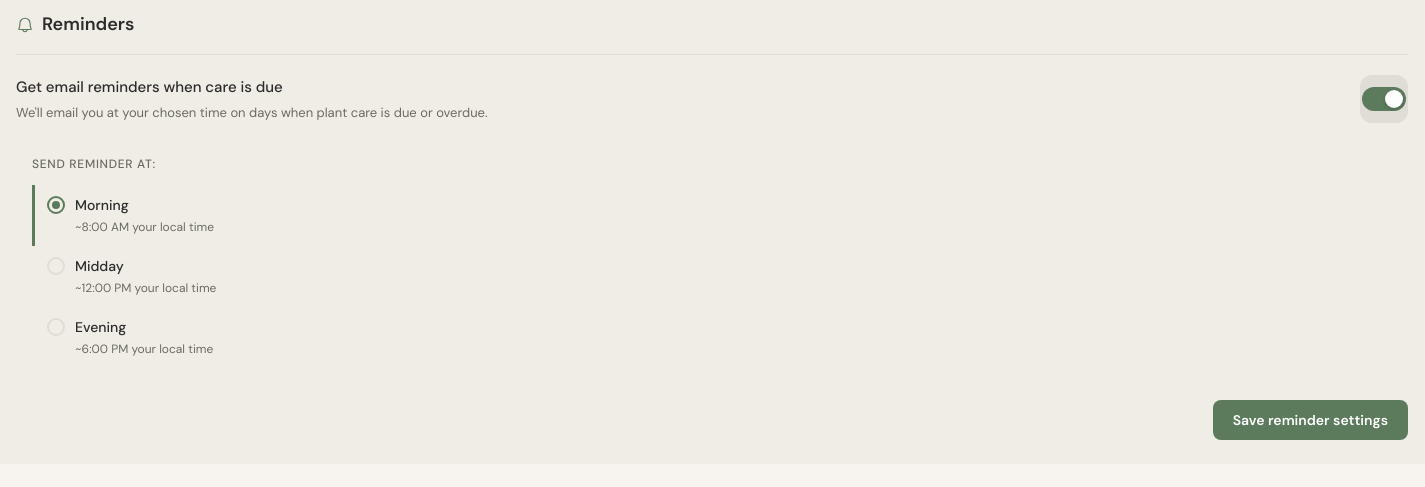
RemindersSection › dismisses save error when X is clicked
What coordinates should you click on to do the following:
click the button "Save reminder settings"
I would click on:
 (1310, 420)
Its box is [1213, 400, 1408, 440].
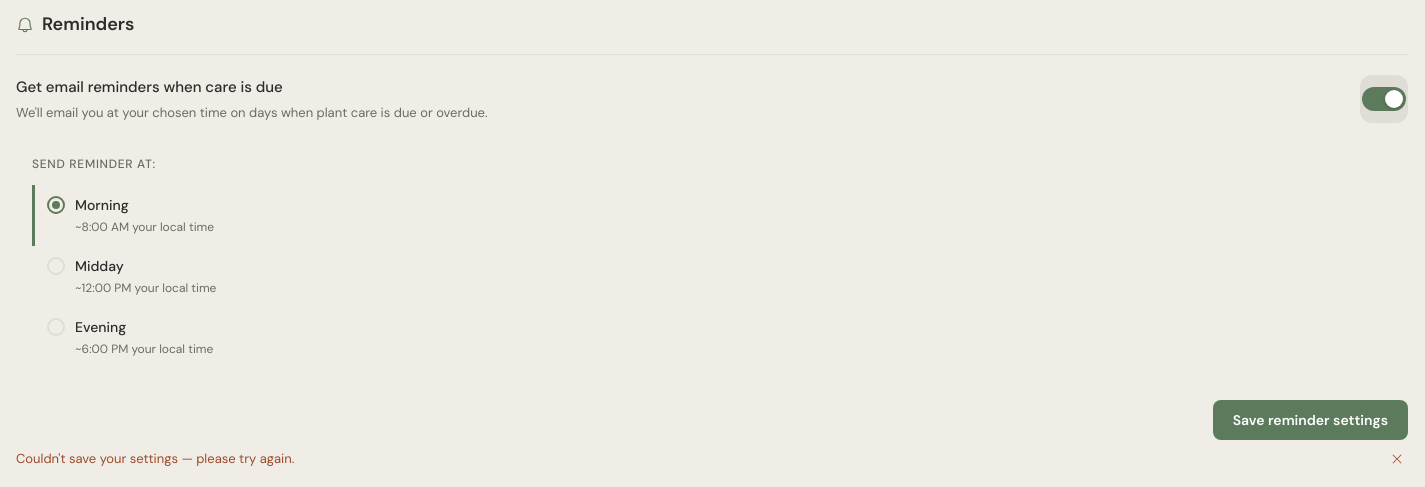
Expected: the message "Couldn't save your settings — please try again." is shown, [16, 448, 1408, 470]
What coordinates should you click on to do the following:
click the button named "Dismiss error"
I would click on:
 (1397, 459)
Its box is [1386, 448, 1408, 470].
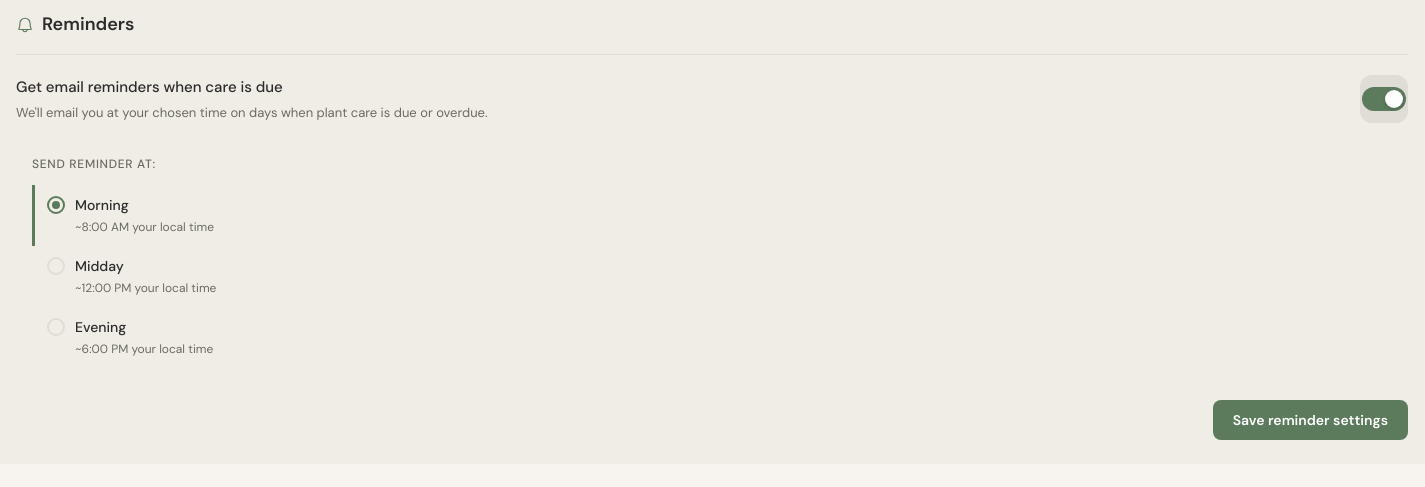
Expected: the message "Couldn't save your settings — please try again." is gone
